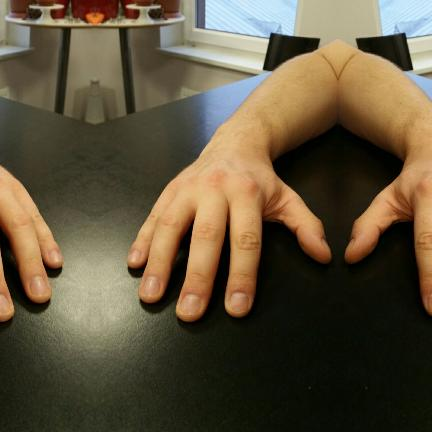Nail: (178, 293, 200, 315), (227, 292, 248, 313), (140, 275, 159, 295), (29, 275, 48, 295), (0, 293, 10, 315), (321, 238, 331, 257), (343, 238, 353, 257), (127, 250, 140, 262), (48, 250, 61, 262), (426, 293, 432, 312)
